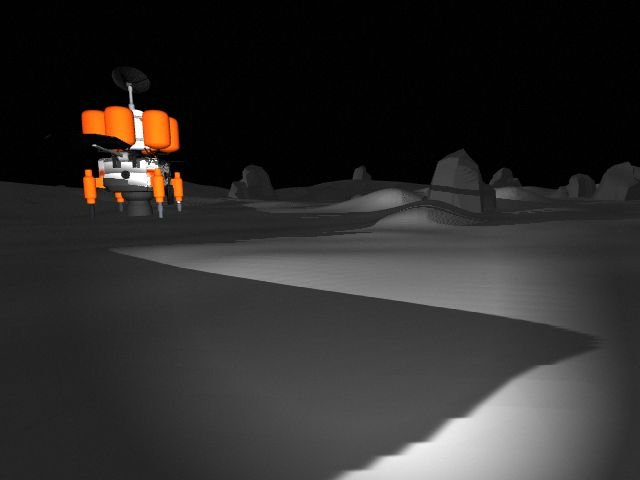homebase: (70, 61, 191, 221)
